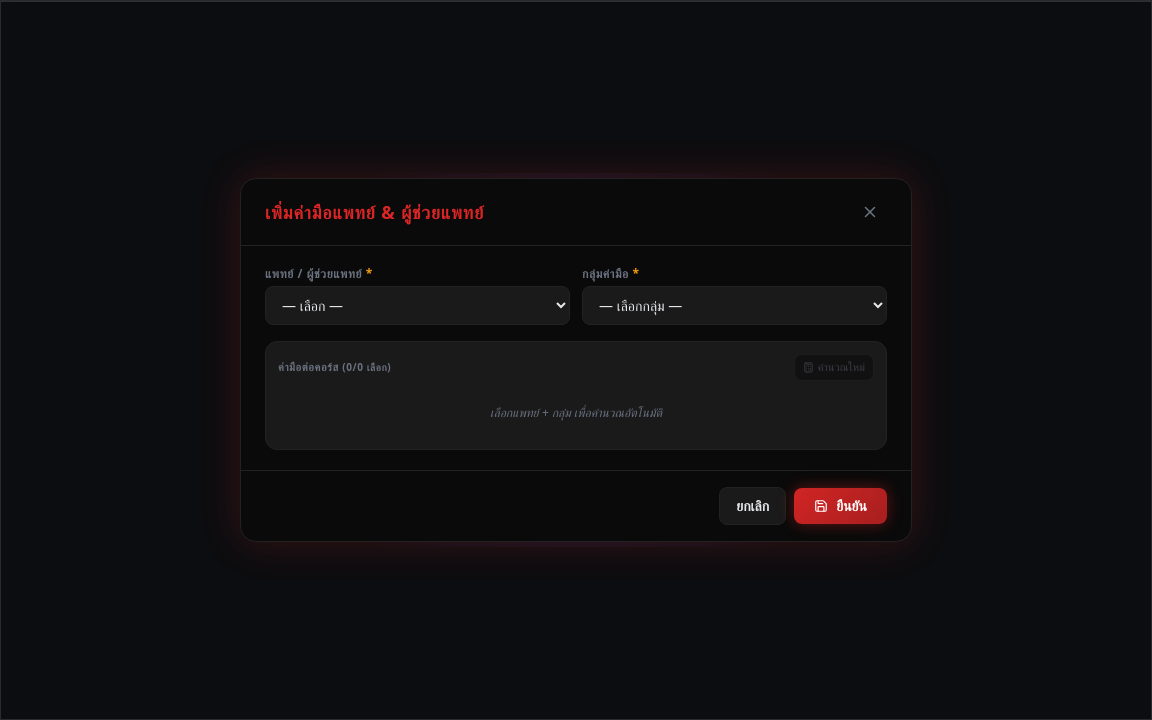
Scenario: DfEntryModal — ADD mode › DFM3: switching doctor with staff-override resolves override (D2 → C1 value 400 not 300)
The width and height of the screenshot is (1152, 720).
Select "หมอ B · แพทย์" in the dropdown below "แพทย์ / ผู้ช่วยแพทย์" at x=418, y=306, box [265,286,570,325]
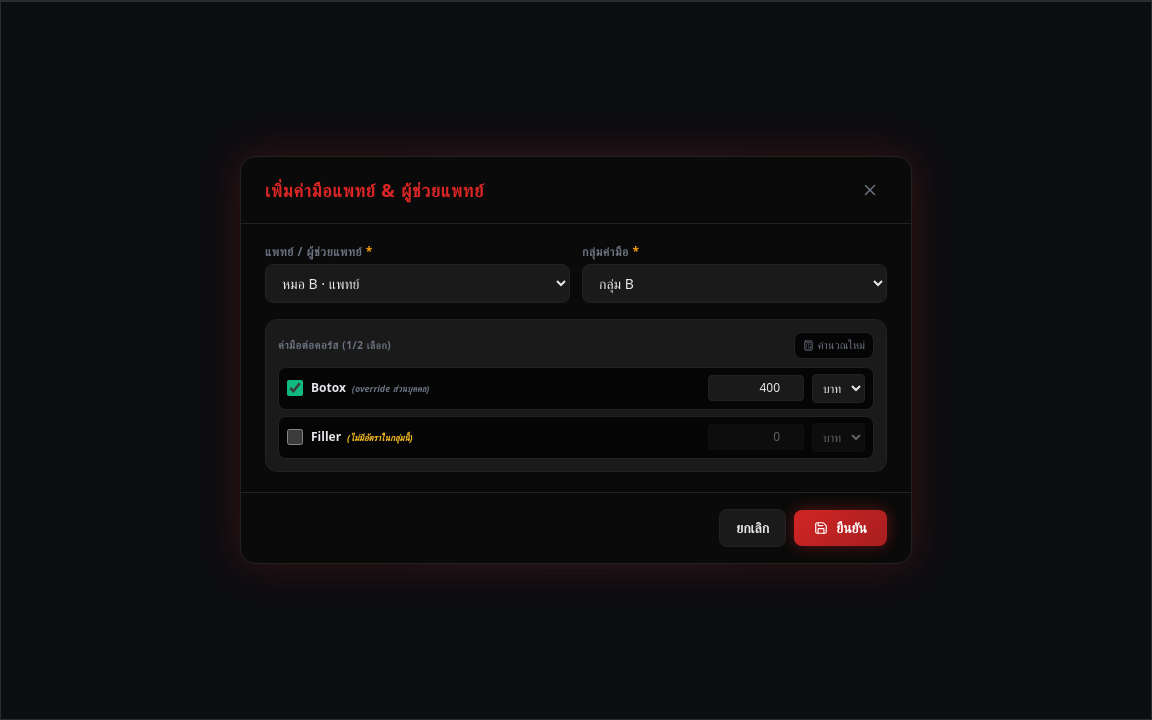
Expected: the number field in the row of "override ส่วนบุคคล" holds "400", [708,375,804,401]
